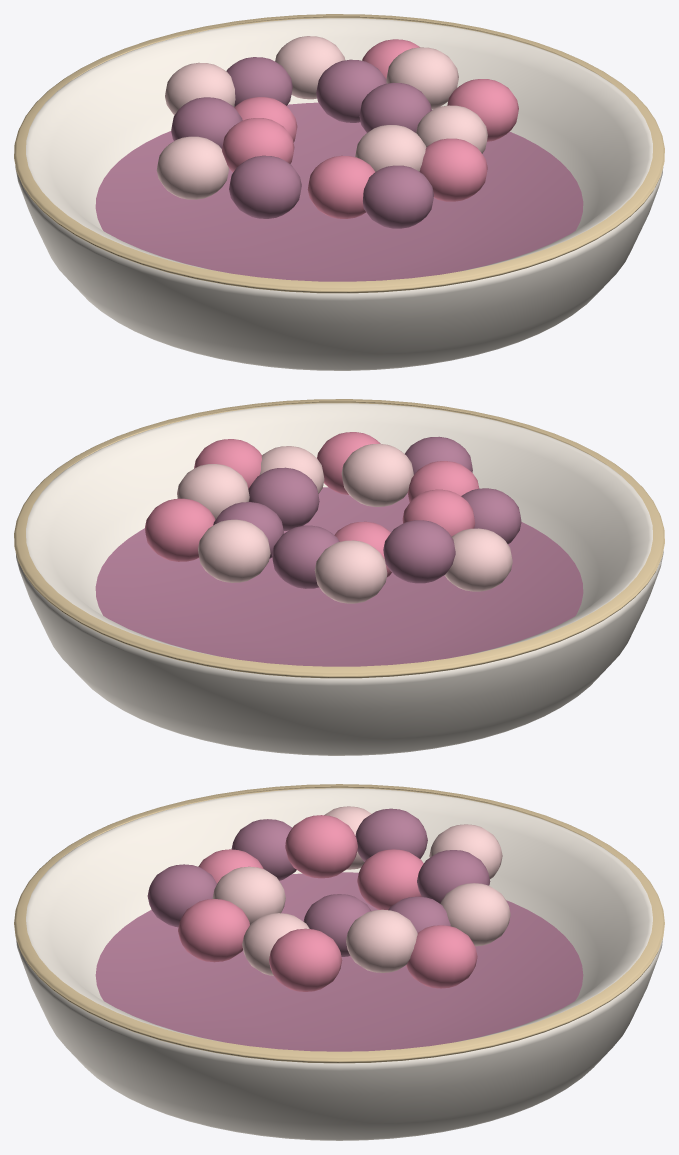
Rendered from berry-bliss-table.glb.
The picture shows the model from 3 angles, top to bottom: view 1: azimuth 30°, elevation 25°; view 2: azimuth 150°, elevation 25°; view 3: azimuth 270°, elevation 25°; orthographic projection.
Parts seen in each view (by area): view 1: Hand-thrown shallow bowl, Sauce and food bed, Fine bowl rim, Fresh berry topping.012, Fresh berry topping.015, Fresh berry topping.017, Fresh berry topping.010, Fresh berry topping.007, Fresh berry topping.003, Fresh berry topping.008, Fresh berry topping, Fresh berry topping.011 (+9 smaller); view 2: Hand-thrown shallow bowl, Sauce and food bed, Fine bowl rim, Fresh berry topping.014, Fresh berry topping.011, Fresh berry topping.009, Fresh berry topping.002, Fresh berry topping.016, Fresh berry topping.017, Fresh berry topping, Fresh berry topping.006, Fresh berry topping.008 (+9 smaller); view 3: Hand-thrown shallow bowl, Sauce and food bed, Fine bowl rim, Fresh berry topping.013, Fresh berry topping.004, Fresh berry topping.008, Fresh berry topping.010, Fresh berry topping.016, Fresh berry topping.011, Fresh berry topping.001, Fresh berry topping.015, Fresh berry topping.009 (+9 smaller).
Part boxes in pixels (x1,y1,x2,y2): Hand-thrown shallow bowl: [15, 18, 663, 370]; Sauce and food bed: [95, 102, 583, 281]; Fine bowl rim: [14, 14, 664, 293]; Fresh berry topping.012: [229, 155, 301, 218]; Fresh berry topping.015: [363, 165, 433, 228]; Fresh berry topping.017: [156, 136, 229, 199]; Fresh berry topping.010: [419, 138, 487, 201]; Fresh berry topping.007: [307, 155, 375, 218]; Fresh berry topping.003: [316, 59, 386, 122]; Fresh berry topping.008: [386, 47, 458, 109]; Fresh berry topping: [359, 82, 431, 132]; Fresh berry topping.011: [275, 36, 345, 99]; Hand-thrown shallow bowl: [15, 403, 663, 755]; Sauce and food bed: [95, 487, 583, 666]; Fine bowl rim: [14, 399, 664, 678]; Fresh berry topping.014: [314, 540, 387, 603]; Fresh berry topping.011: [198, 519, 270, 582]; Fresh berry topping.009: [383, 520, 455, 583]; Fresh berry topping.002: [341, 443, 413, 506]; Fresh berry topping.016: [144, 498, 215, 561]; Fresh berry topping.017: [444, 528, 512, 591]; Fresh berry topping: [248, 467, 319, 530]; Fresh berry topping.006: [272, 525, 339, 588]; Fresh berry topping.008: [177, 464, 249, 519]; Hand-thrown shallow bowl: [16, 788, 662, 1140]; Sauce and food bed: [95, 872, 583, 1051]; Fine bowl rim: [14, 784, 664, 1063]; Fresh berry topping.013: [269, 928, 342, 991]; Fresh berry topping.004: [285, 815, 357, 878]; Fresh berry topping.008: [346, 909, 417, 972]; Fresh berry topping.010: [178, 899, 249, 962]; Fresh berry topping.016: [406, 925, 477, 988]; Fresh berry topping.011: [440, 883, 510, 946]; Fresh berry topping.001: [357, 849, 423, 909]; Fresh berry topping.015: [147, 864, 216, 927]; Fresh berry topping.009: [355, 808, 427, 861].
Size of the model in its own units: 1.1 by 0.3408 by 1.1.
